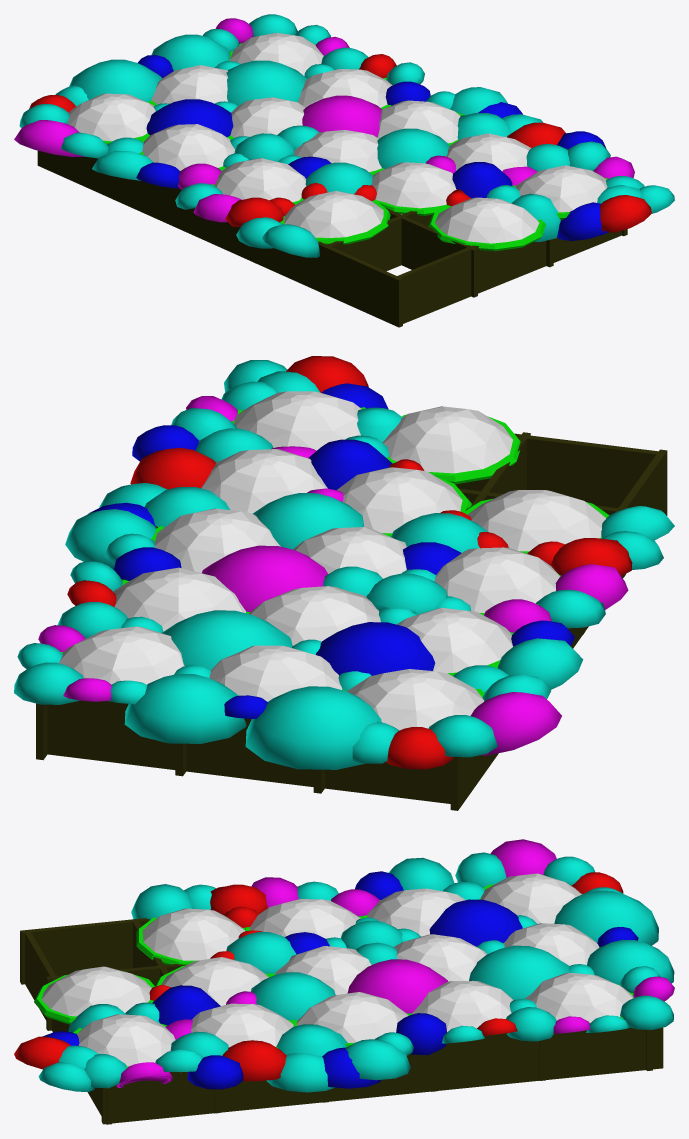
The model's file is mazeeee.fbx.
3 views of the same model, one above another, from view 1: azimuth 30°, elevation 25°; view 2: azimuth 150°, elevation 25°; view 3: azimuth 270°, elevation 25° (orthographic). The views are drawn at different scales.
Visible parts, largest first — view 1: Walls1; view 2: Walls1; view 3: Walls1.
Boxes of the visible parts, x1,y1,x2,y2 form: Walls1: (14,14,674,327); Walls1: (14,356,674,810); Walls1: (14,839,674,1124).
Size of the model in its own units: 200 by 30.37 by 236.
